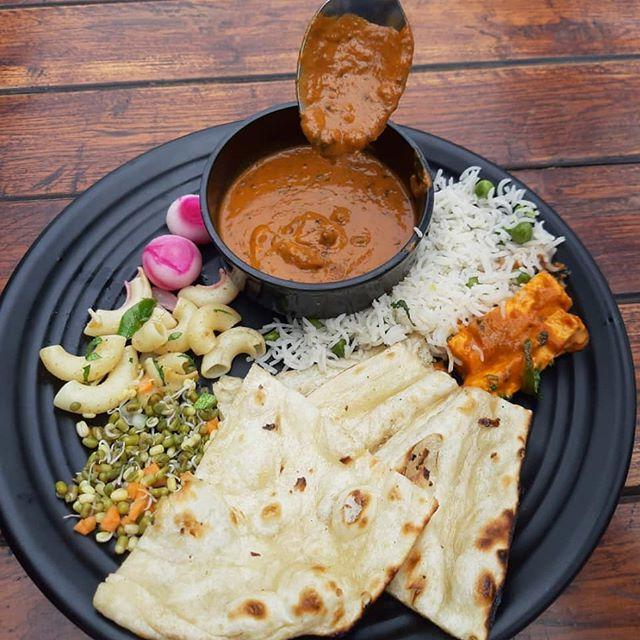Roti: (157, 340, 515, 640)
White Rice: (406, 175, 538, 318)
